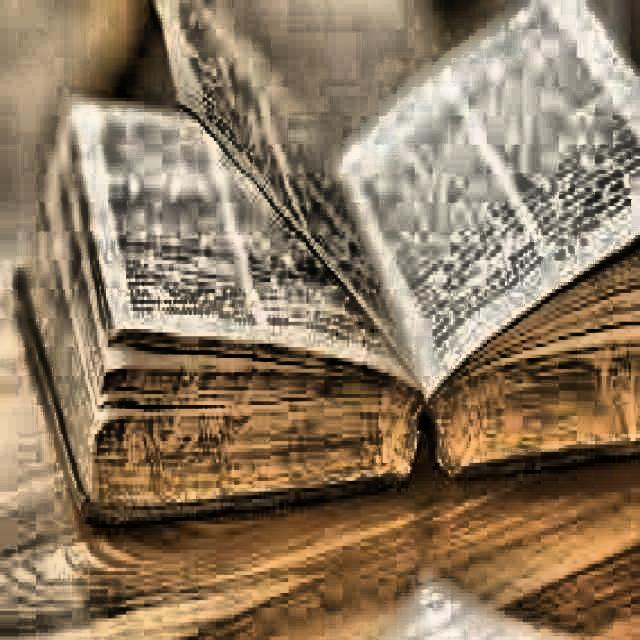Paper: (11, 90, 638, 517), (334, 0, 638, 394), (151, 0, 424, 394), (63, 90, 415, 376)
